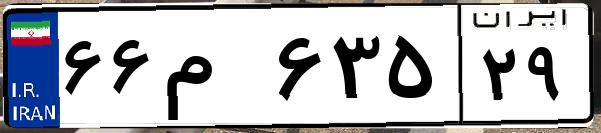2: (475, 38, 525, 113)
3: (330, 28, 385, 110)
5: (385, 28, 445, 110)
6: (270, 28, 330, 110), (57, 26, 110, 100), (110, 28, 158, 98)
9: (525, 38, 570, 115)
م: (158, 20, 270, 120)
